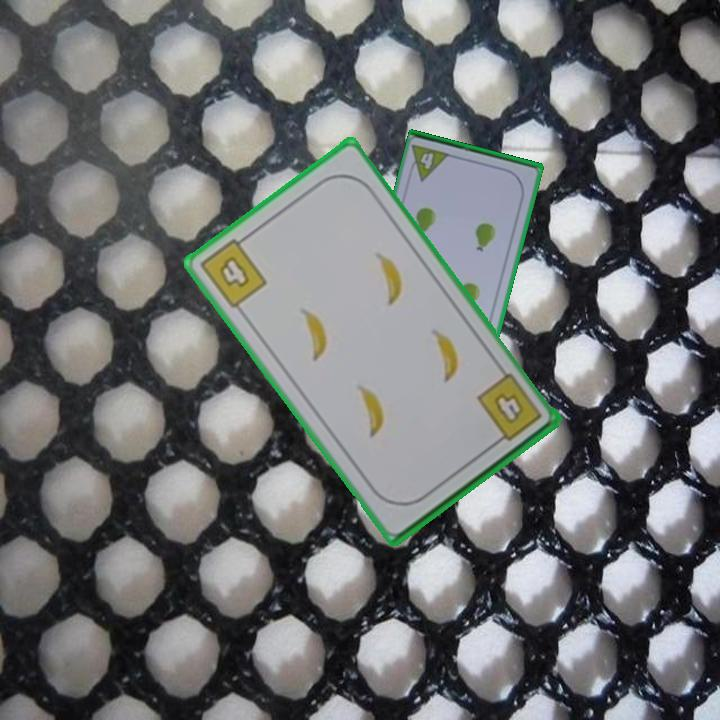4b: (196, 230, 270, 312), (473, 369, 545, 449)
4p: (405, 141, 453, 184)
